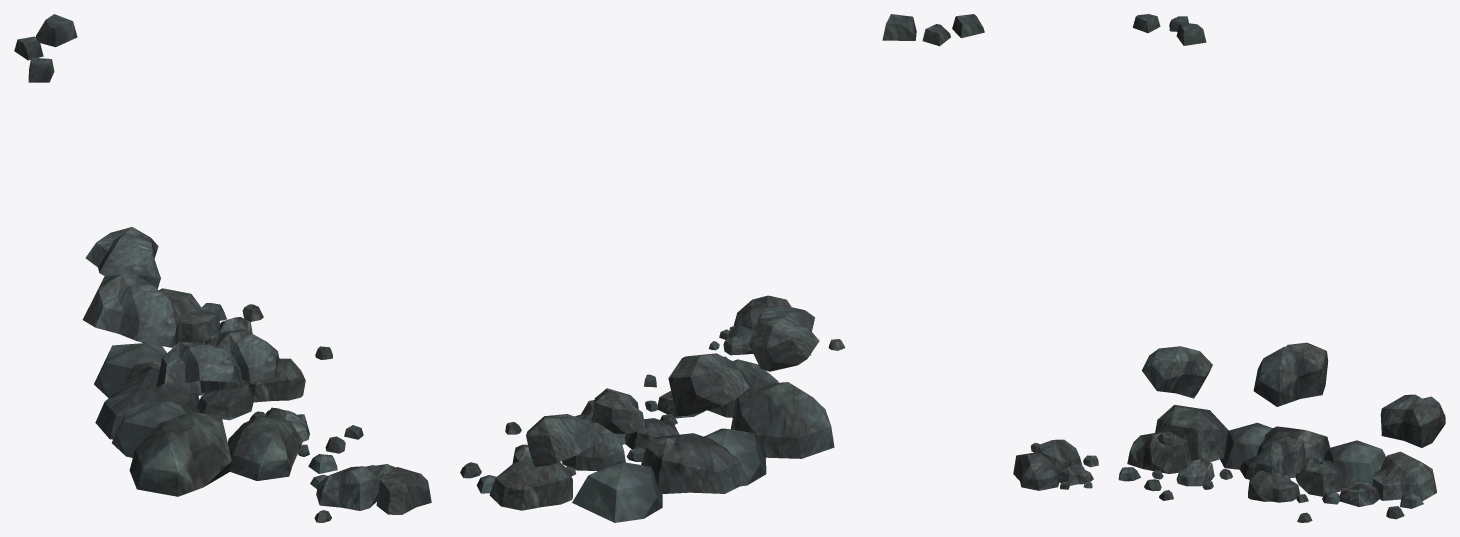
File: object_rubble21.fbx
3 renders of one model, left to right at view 1: azimuth 30°, elevation 25°; view 2: azimuth 150°, elevation 25°; view 3: azimuth 270°, elevation 25°, orthographic. The views are drawn at different scales.
Parts seen in each view (by area): view 1: obj0.095; view 2: obj0.095; view 3: obj0.095.
Boxes of the visible parts, <box> form: obj0.095: <box>14,14,431,522</box>; obj0.095: <box>460,14,984,522</box>; obj0.095: <box>1013,14,1445,522</box>.
Bounding box in the file's own units: 9.27 × 10.58 × 11.
